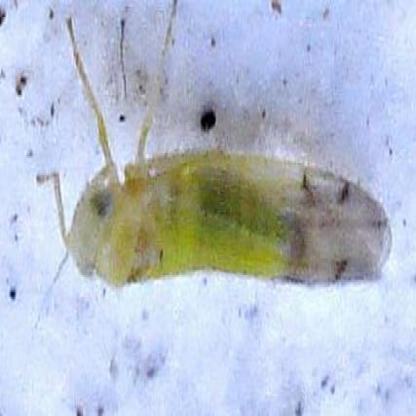green-leafhopper: (49, 103, 390, 292)
